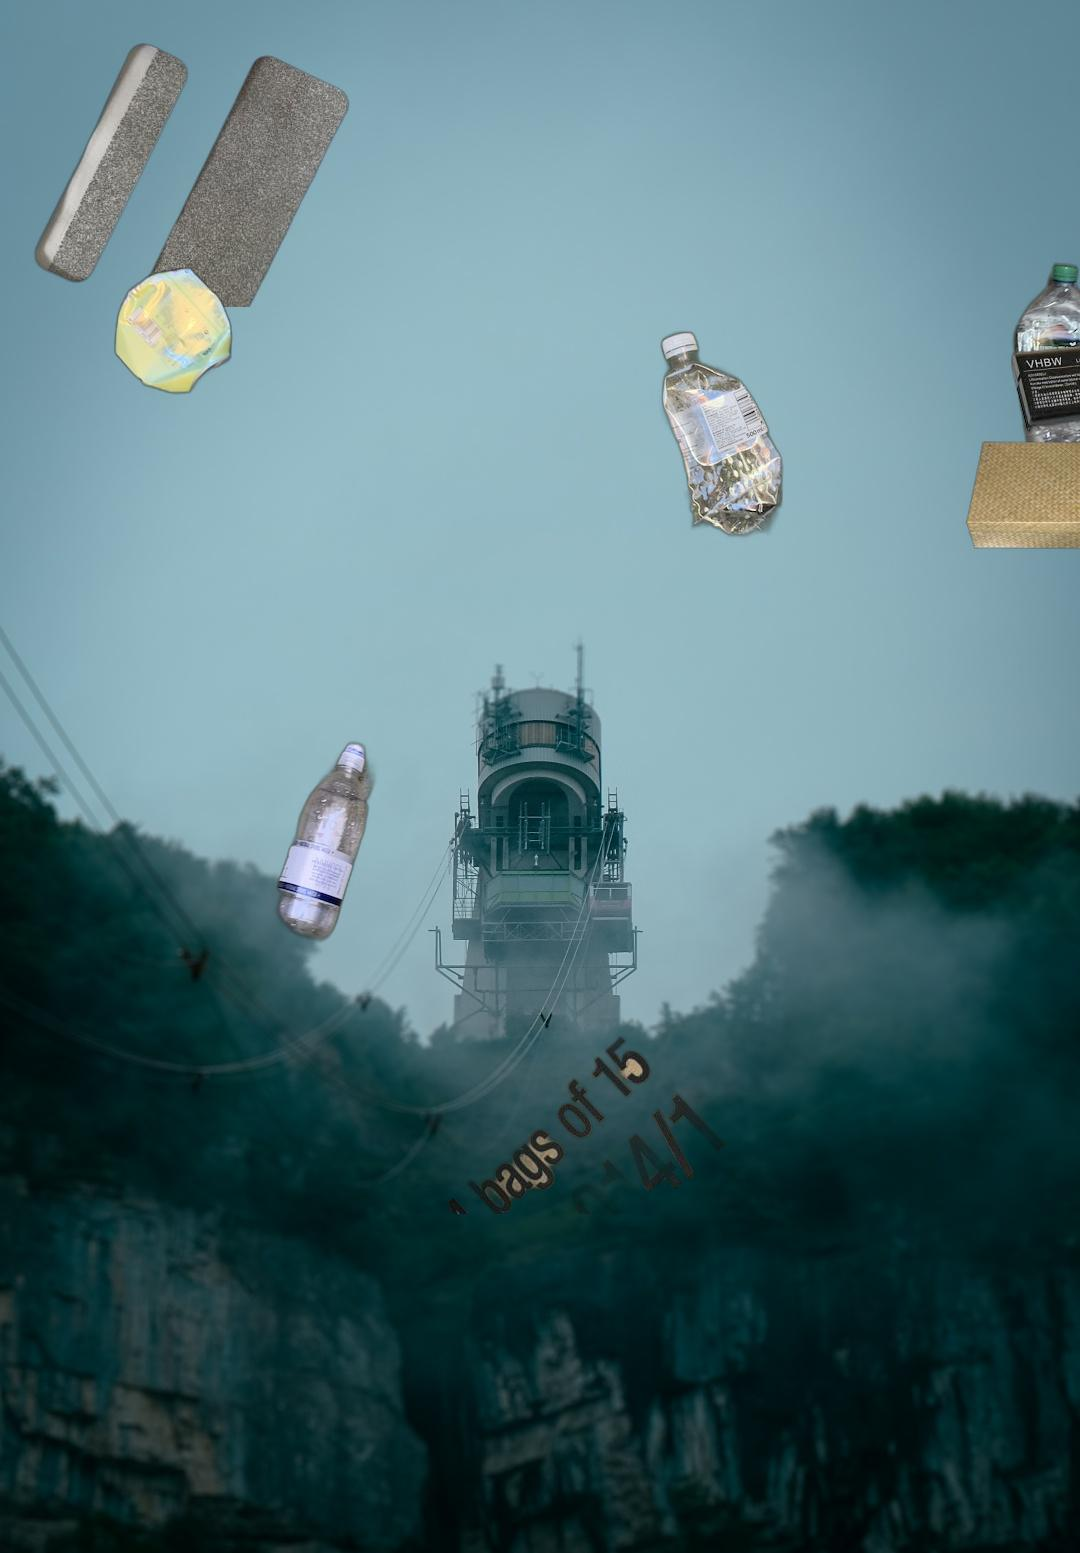battery: (1009, 328, 1080, 435)
metal-cans: (111, 262, 236, 399)
paper: (30, 40, 352, 307)
plastic-bottles: (657, 326, 786, 542), (270, 738, 380, 946), (1009, 257, 1080, 509)
trashbox-cardboard: (415, 1034, 729, 1214), (963, 439, 1080, 553)
